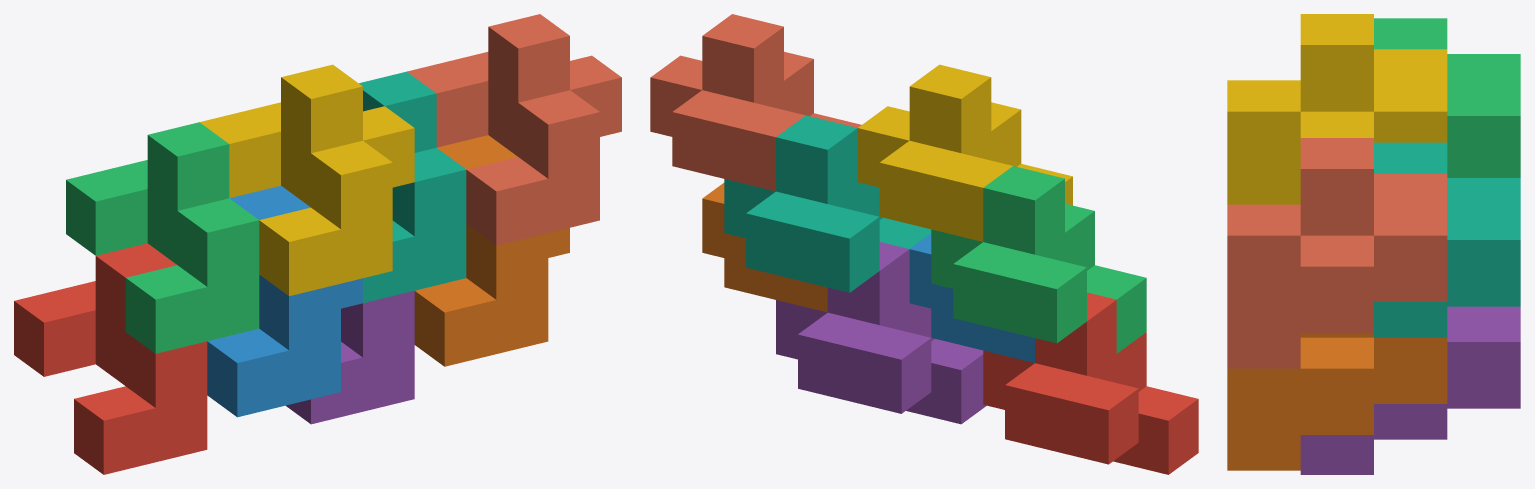
Rendered from tiling.obj.
The picture shows the model from 3 angles, left to right: view 1: azimuth 30°, elevation 25°; view 2: azimuth 150°, elevation 25°; view 3: azimuth 270°, elevation 25°; orthographic projection. The views are drawn at different scales.
Visible parts, largest first — view 1: copy_1_domain_4, copy_1_domain_8, copy_1_domain_3, copy_1_domain_1, copy_1_domain_6, copy_1_domain_2, copy_1_domain_7, copy_1_domain_5; view 2: copy_1_domain_3, copy_1_domain_1, copy_1_domain_5, copy_1_domain_4, copy_1_domain_7, copy_1_domain_8, copy_1_domain_2, copy_1_domain_6; view 3: copy_1_domain_8, copy_1_domain_4, copy_1_domain_6, copy_1_domain_7, copy_1_domain_5, copy_1_domain_3.
Part boxes in pixels (x1=…): copy_1_domain_4: x1=199, y1=64, x2=414, y2=296; copy_1_domain_8: x1=407, y1=14, x2=621, y2=245; copy_1_domain_3: x1=66, y1=122, x2=259, y2=353; copy_1_domain_1: x1=14, y1=243, x2=207, y2=474; copy_1_domain_6: x1=414, y1=135, x2=569, y2=366; copy_1_domain_2: x1=207, y1=185, x2=362, y2=417; copy_1_domain_7: x1=359, y1=71, x2=466, y2=303; copy_1_domain_5: x1=286, y1=290, x2=414, y2=424; copy_1_domain_3: x1=931, y1=166, x2=1146, y2=353; copy_1_domain_1: x1=983, y1=292, x2=1198, y2=474; copy_1_domain_5: x1=776, y1=242, x2=986, y2=424; copy_1_domain_4: x1=857, y1=64, x2=1072, y2=241; copy_1_domain_7: x1=724, y1=115, x2=931, y2=292; copy_1_domain_8: x1=650, y1=14, x2=861, y2=191; copy_1_domain_2: x1=909, y1=233, x2=1034, y2=362; copy_1_domain_6: x1=702, y1=183, x2=827, y2=312; copy_1_domain_8: x1=1227, y1=138, x2=1447, y2=368; copy_1_domain_4: x1=1227, y1=14, x2=1447, y2=204; copy_1_domain_6: x1=1227, y1=333, x2=1447, y2=470; copy_1_domain_7: x1=1374, y1=142, x2=1520, y2=337; copy_1_domain_5: x1=1300, y1=306, x2=1520, y2=474; copy_1_domain_3: x1=1374, y1=18, x2=1520, y2=177.
Bounding box in the file's own units: 10 × 6 × 4.
